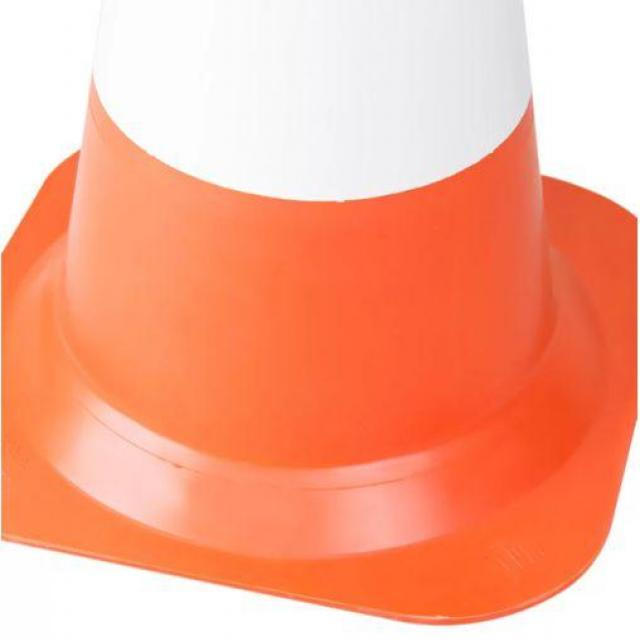cone: (20, 2, 610, 605)
